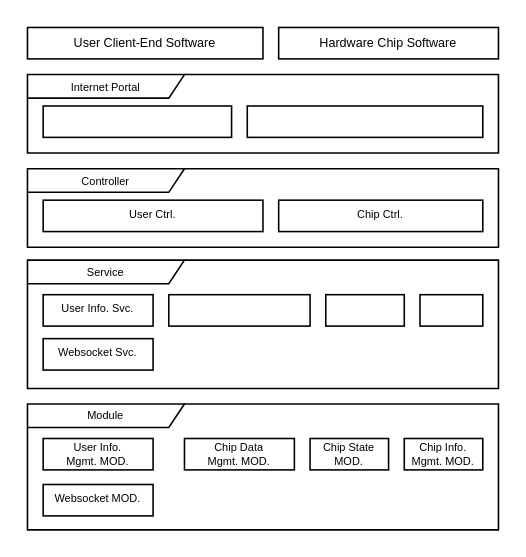
This 526x557 diagram has some shape labels left out. Here are the shapes that lost their labels. From the top down, the centre of each, then its label:
At point 137,120: "WebSocket".
At point 364,120: "HTTP Server".
At point 238,309: "Chip Data Svc.".
At point 364,309: "Chip State Svc.".
At point 450,309: "Chip Info. Svc.".
